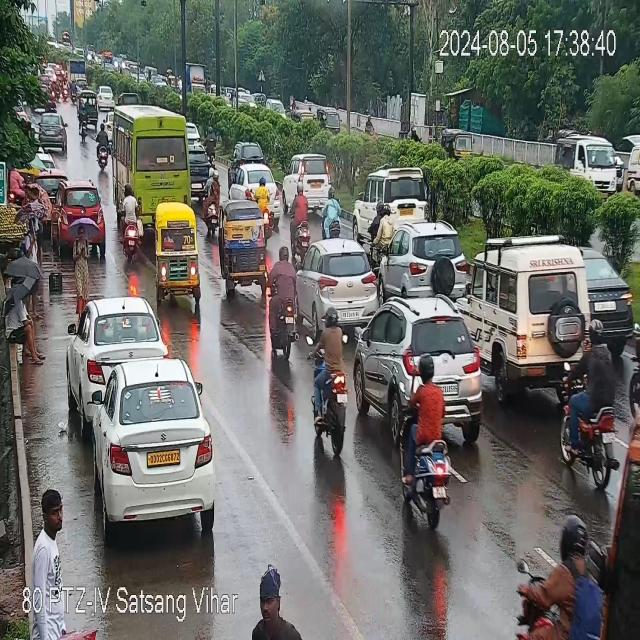2-wheelers: (520, 514, 616, 640), (559, 320, 619, 484), (307, 297, 352, 456), (403, 360, 449, 511), (269, 244, 302, 356), (290, 178, 313, 261), (118, 189, 144, 259), (201, 176, 223, 235), (322, 186, 344, 239), (251, 180, 274, 218), (75, 96, 90, 143), (98, 122, 108, 170), (69, 83, 77, 106)
auto: (152, 205, 205, 304), (218, 200, 268, 298), (556, 132, 619, 196), (441, 128, 474, 158), (316, 105, 343, 136)
bus: (102, 101, 196, 218)
car: (454, 226, 593, 383), (92, 358, 218, 526), (350, 297, 488, 438), (70, 297, 166, 397), (375, 219, 472, 297), (296, 240, 385, 323), (350, 168, 434, 242), (51, 181, 108, 258), (228, 164, 282, 228), (280, 155, 333, 213), (36, 111, 70, 159), (93, 83, 114, 107)
pedestrian: (4, 259, 49, 370), (245, 561, 300, 639), (28, 487, 72, 584), (15, 201, 44, 325), (71, 216, 98, 319)
